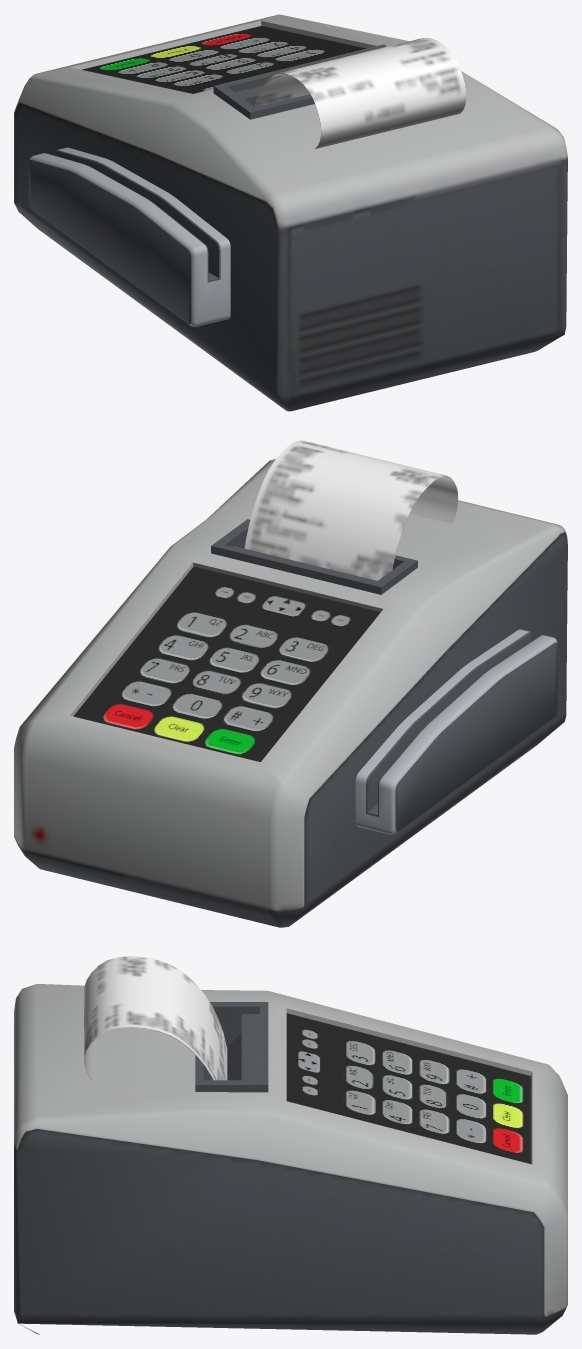
Rendered from SM_Cash_Register_03.glb.
3 views of the same model, one above another, from view 1: azimuth 30°, elevation 25°; view 2: azimuth 150°, elevation 25°; view 3: azimuth 270°, elevation 25° (orthographic).
Parts seen in each view (by area): view 1: SM_Cash_Register_03; view 2: SM_Cash_Register_03; view 3: SM_Cash_Register_03.
Boxes of the visible parts, <box> form: SM_Cash_Register_03: <box>14,14,567,411</box>; SM_Cash_Register_03: <box>14,440,567,927</box>; SM_Cash_Register_03: <box>14,956,567,1334</box>.
Size of the model in its own units: 0.0819 by 0.0677 by 0.1198.
Materials: 1 (1 with a texture image).
